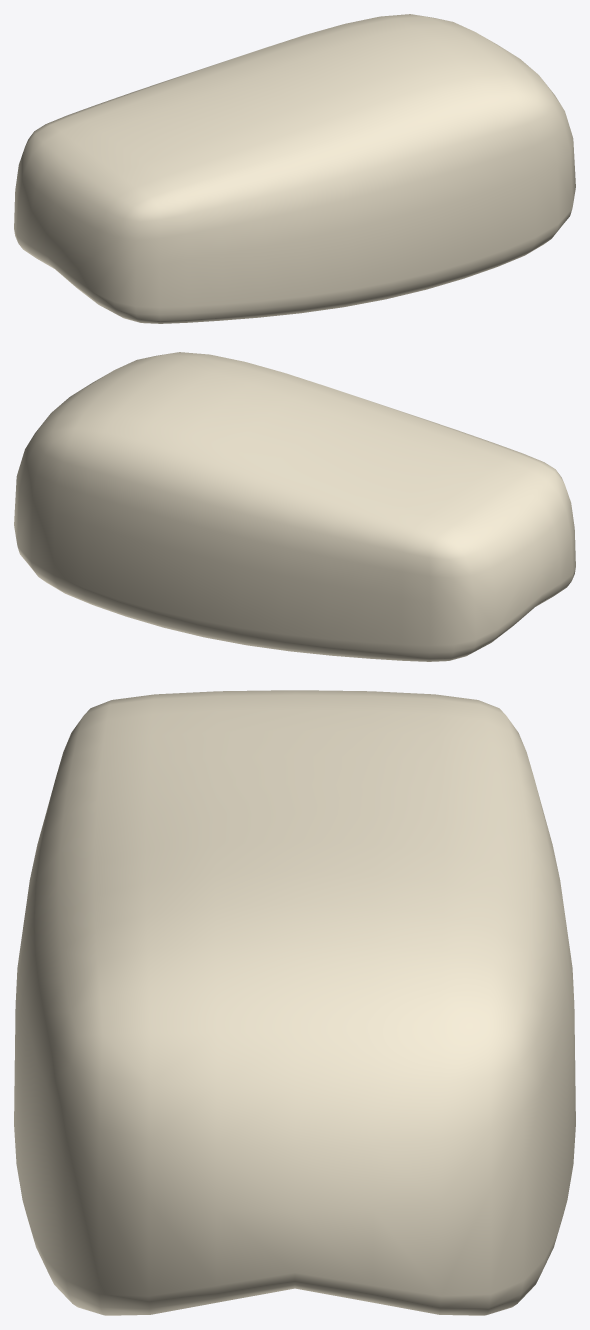
Rendered from cowrie_b3.glb.
3 renders of one model, top to bottom at view 1: azimuth 30°, elevation 25°; view 2: azimuth 150°, elevation 25°; view 3: azimuth 270°, elevation 25°, orthographic. The views are drawn at different scales.
Visible parts, largest first — view 1: cowrie_b3; view 2: cowrie_b3; view 3: cowrie_b3.
Part boxes in pixels (x1=…): cowrie_b3: x1=14, y1=14, x2=575, y2=323; cowrie_b3: x1=14, y1=352, x2=575, y2=661; cowrie_b3: x1=14, y1=690, x2=575, y2=1315.
Size of the model in its own units: 0.027 by 0.00954 by 0.014.
